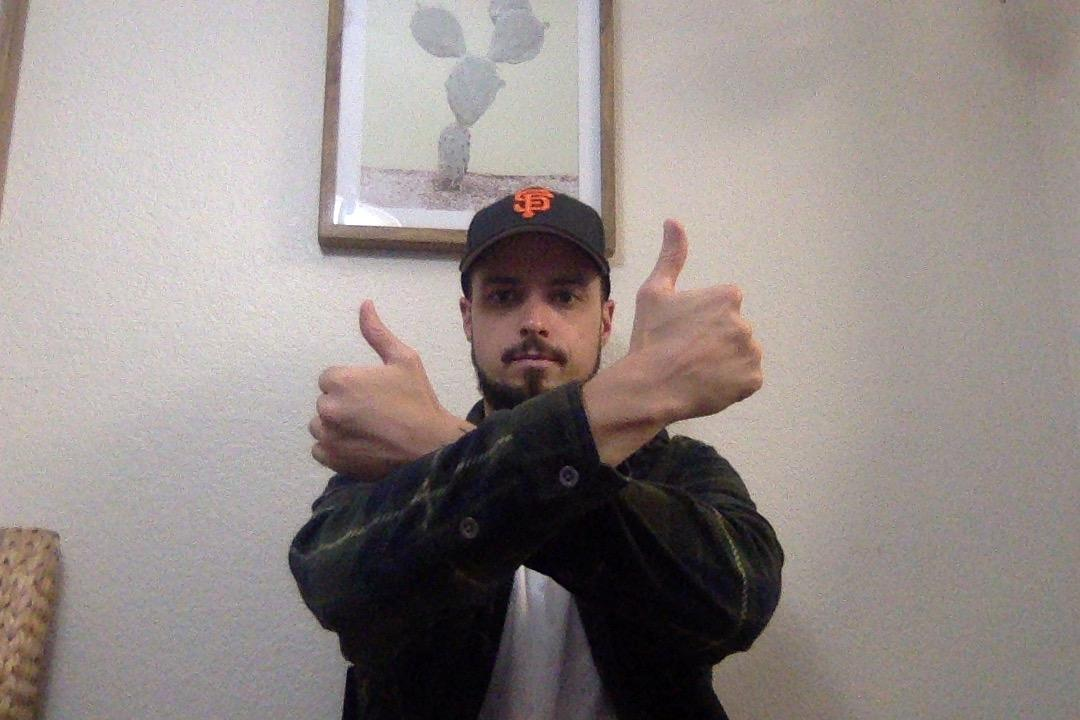Thumbs-Up: (606, 207, 772, 428), (293, 292, 460, 474)
